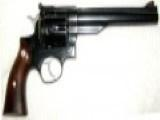gun: (1, 1, 160, 117)
